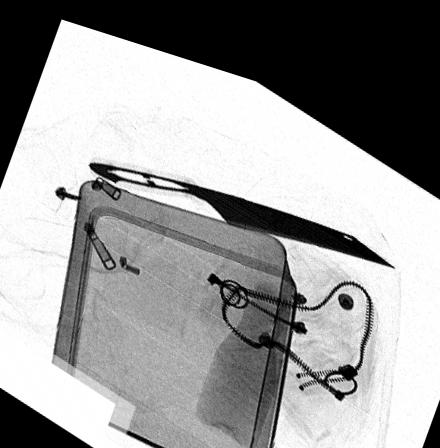Knife: (88, 157, 397, 244)
